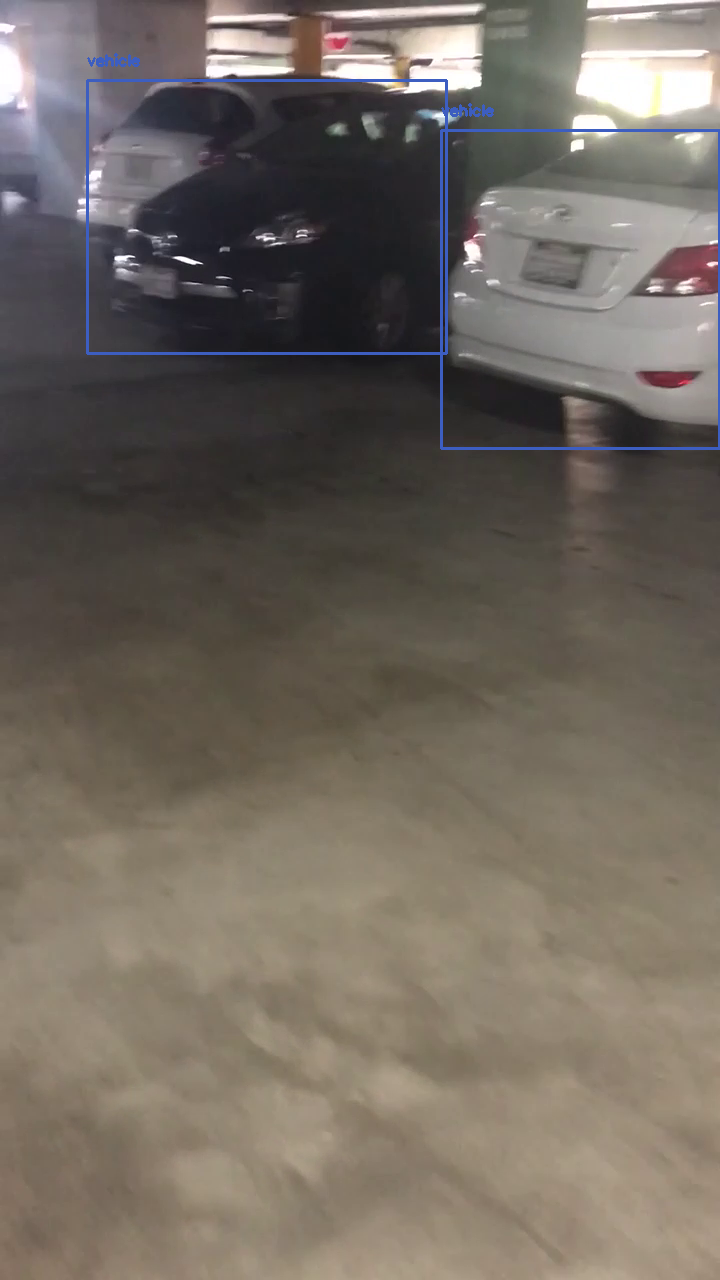vehicle: (87, 80, 446, 353), (441, 130, 719, 448)
